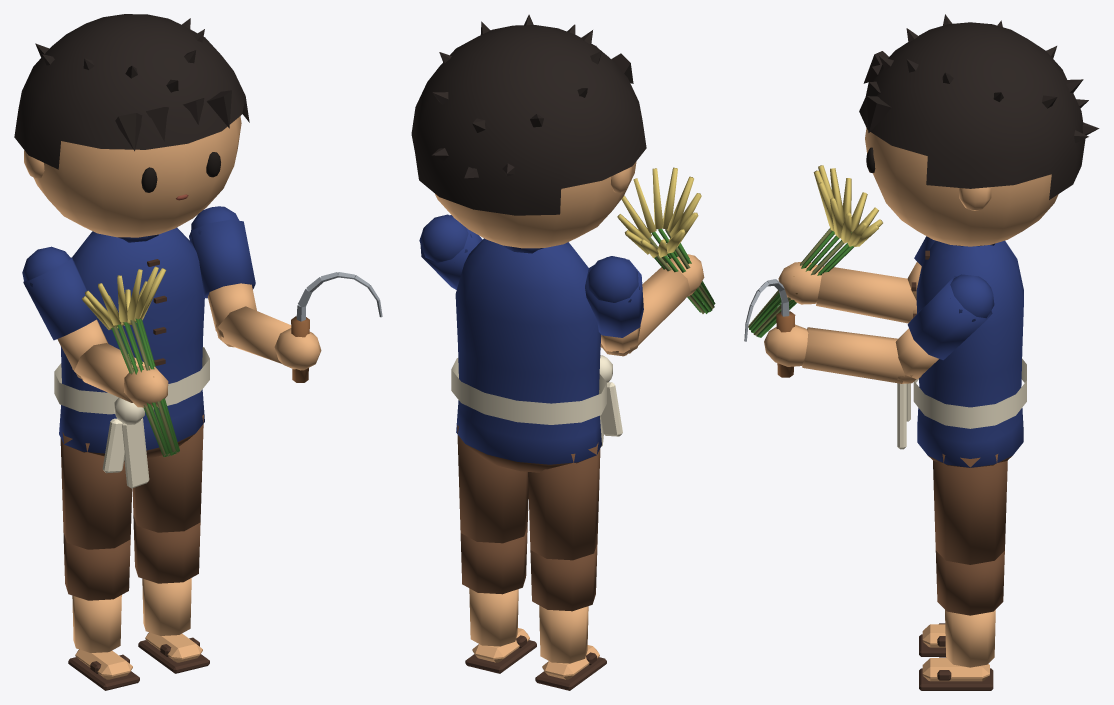
Rendered from central_rice_harvester.glb.
3 renders of one model, left to right at view 1: azimuth 30°, elevation 25°; view 2: azimuth 150°, elevation 25°; view 3: azimuth 270°, elevation 25°, orthographic.
Visible parts, largest first — view 1: head, body, shin_L, shin_R, leg_R, arm_L, arm_R, leg_L, prop_rice_sheaf, forearm_L, forearm_R, prop_sickle; view 2: head, body, shin_L, shin_R, leg_R, leg_L, prop_rice_sheaf, arm_R, forearm_R, arm_L; view 3: head, body, shin_L, leg_L, arm_L, forearm_L, forearm_R, prop_rice_sheaf, prop_sickle, shin_R.
Boxes of the visible parts, x1=… form: head: x1=14, y1=14, x2=249, y2=237; body: x1=54, y1=227, x2=209, y2=488; shin_L: x1=133, y1=515, x2=209, y2=673; shin_R: x1=63, y1=532, x2=139, y2=690; leg_R: x1=60, y1=432, x2=132, y2=549; arm_L: x1=189, y1=206, x2=256, y2=347; arm_R: x1=22, y1=246, x2=108, y2=379; leg_L: x1=132, y1=414, x2=203, y2=532; prop_rice_sheaf: x1=82, y1=266, x2=179, y2=456; forearm_L: x1=216, y1=306, x2=321, y2=370; forearm_R: x1=72, y1=343, x2=168, y2=407; prop_sickle: x1=291, y1=272, x2=382, y2=382; head: x1=411, y1=14, x2=646, y2=248; body: x1=451, y1=238, x2=622, y2=472; shin_L: x1=460, y1=526, x2=536, y2=673; shin_R: x1=530, y1=543, x2=606, y2=690; leg_R: x1=528, y1=442, x2=600, y2=560; leg_L: x1=457, y1=425, x2=528, y2=543; prop_rice_sheaf: x1=617, y1=167, x2=715, y2=313; arm_R: x1=585, y1=256, x2=643, y2=356; forearm_R: x1=600, y1=254, x2=704, y2=355; arm_L: x1=419, y1=214, x2=482, y2=289; head: x1=859, y1=14, x2=1099, y2=246; body: x1=897, y1=240, x2=1026, y2=467; shin_L: x1=919, y1=550, x2=1004, y2=690; leg_L: x1=933, y1=454, x2=1007, y2=564; arm_L: x1=895, y1=274, x2=994, y2=383; forearm_L: x1=764, y1=324, x2=921, y2=383; forearm_R: x1=778, y1=262, x2=916, y2=323; prop_rice_sheaf: x1=748, y1=165, x2=882, y2=337; prop_sickle: x1=744, y1=279, x2=795, y2=377; shin_R: x1=919, y1=623, x2=945, y2=656.
Bounding box in the file's own units: 0.5982 × 1.48 × 0.7521.
